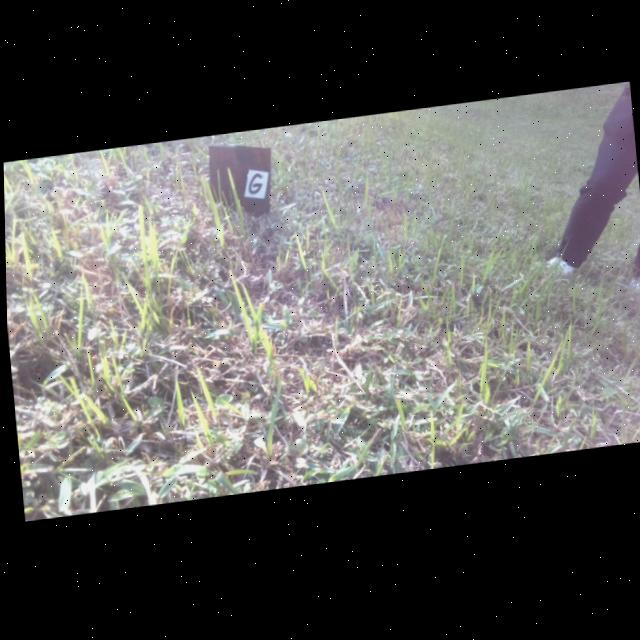G: (248, 176, 261, 197)
